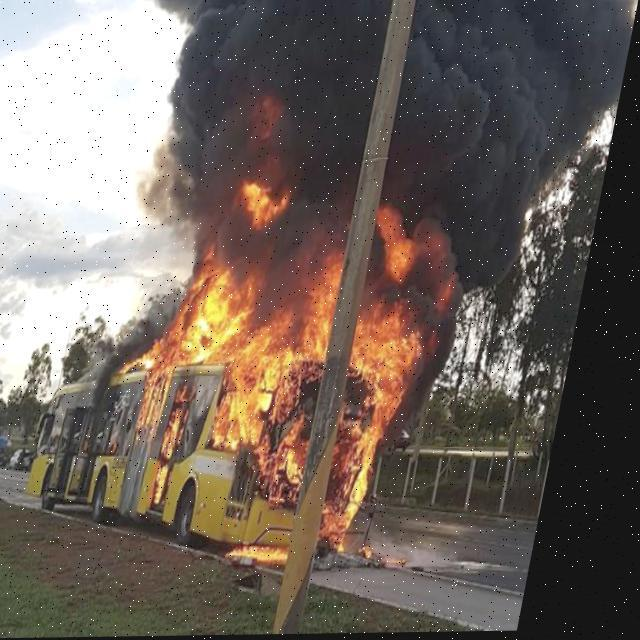Fire: (101, 163, 482, 569)
